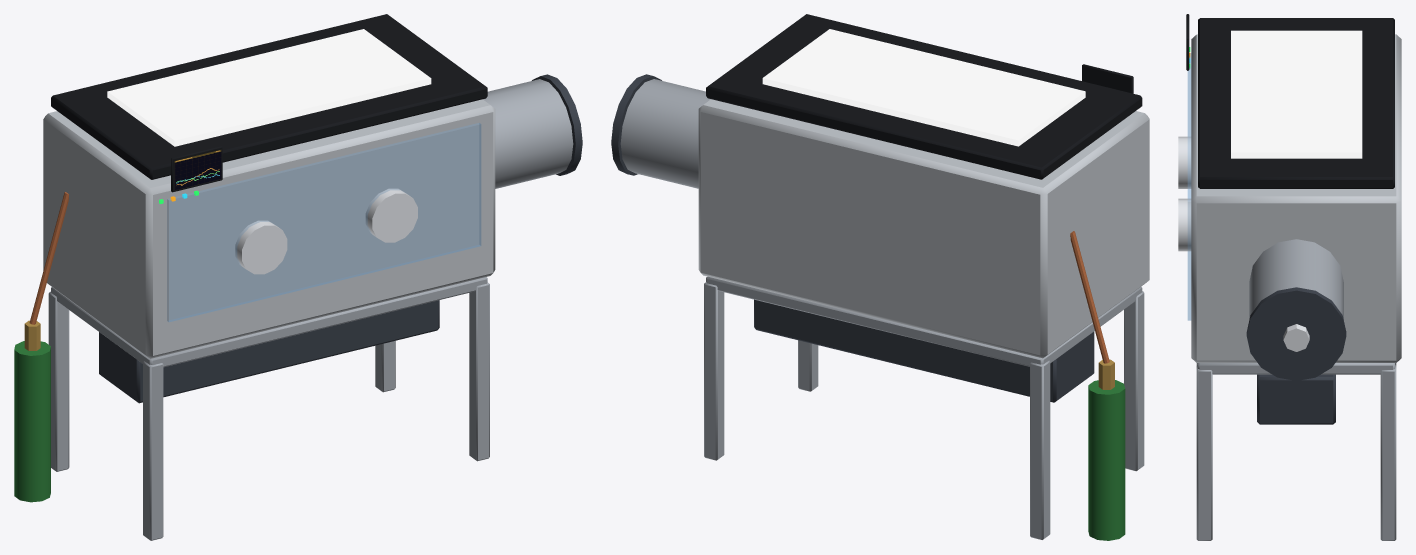
File: labbench_cleanroom_glove_box.glb
3 renders of one model, left to right at view 1: azimuth 30°, elevation 25°; view 2: azimuth 150°, elevation 25°; view 3: azimuth 270°, elevation 25°, orthographic. The views are drawn at different scales.
Visible parts, largest first — view 1: labbench_cleanroom_glove_box; view 2: labbench_cleanroom_glove_box; view 3: labbench_cleanroom_glove_box.
Boxes of the visible parts, left/top/right/bottom form: labbench_cleanroom_glove_box: left=14, top=14, right=582, bottom=540; labbench_cleanroom_glove_box: left=611, top=14, right=1149, bottom=540; labbench_cleanroom_glove_box: left=1178, top=14, right=1401, bottom=540.
Bounding box in the file's own units: 2.24 × 1.57 × 0.85.
Materials: 16 (1 with a texture image).
